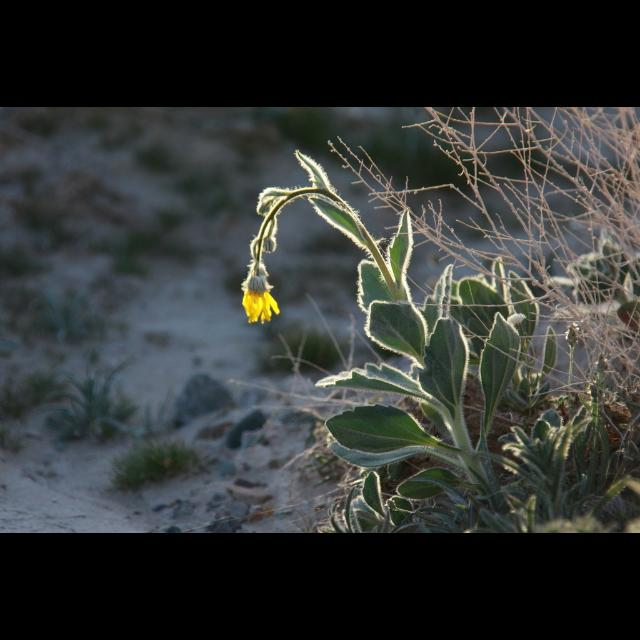Flower: (232, 238, 284, 328)
